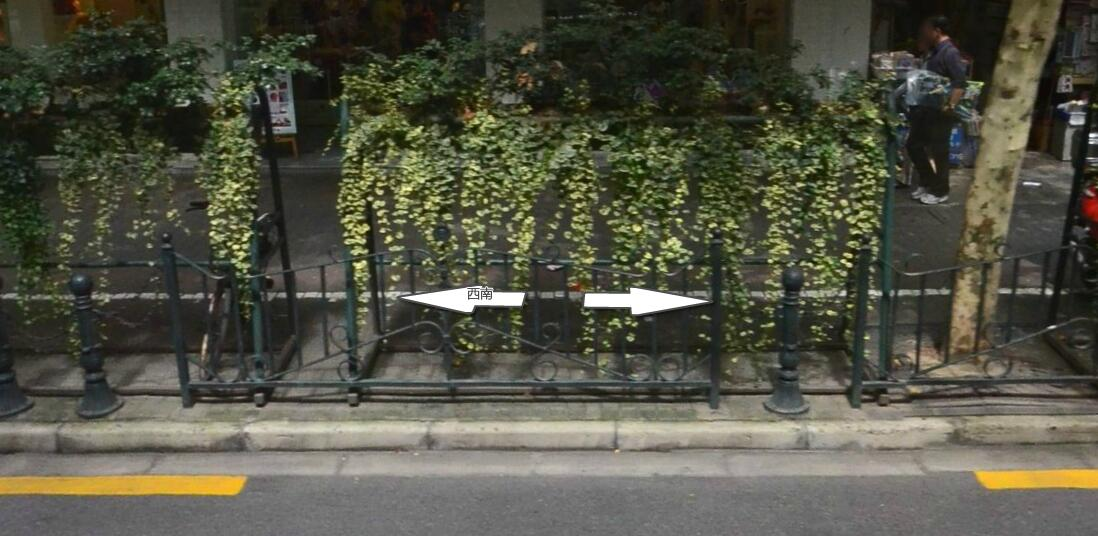side: (58, 421, 241, 455), (243, 420, 428, 452), (429, 421, 616, 452), (617, 421, 810, 449), (811, 418, 967, 449)
